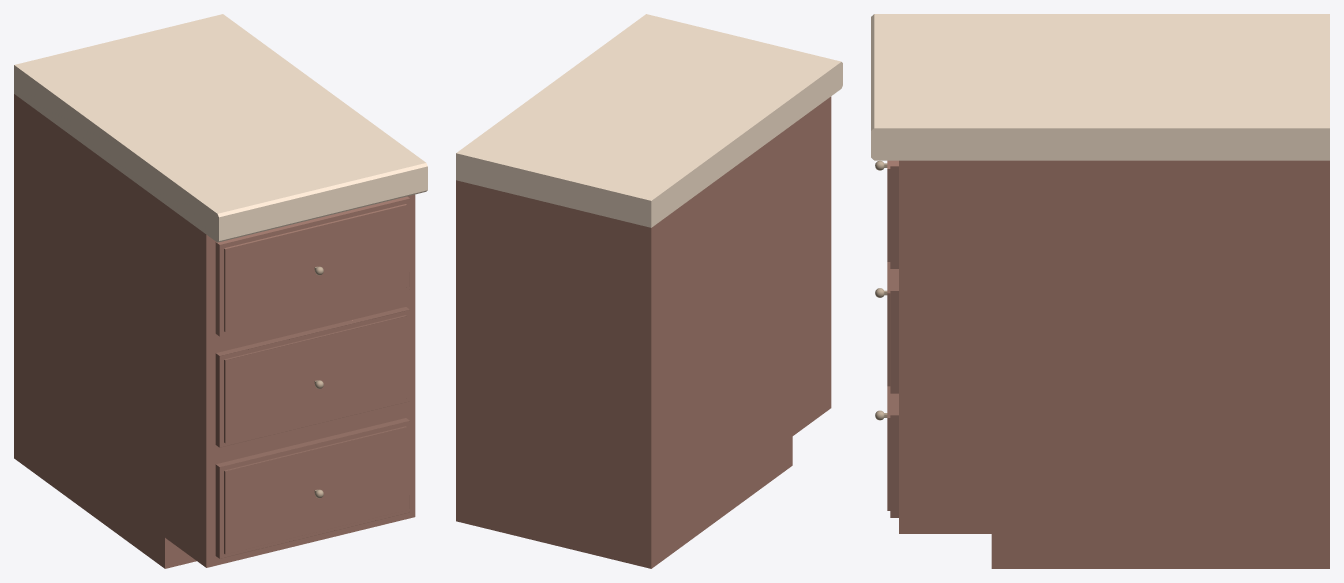
The model's file is HalfCabinetRight.glb.
3 renders of one model, left to right at view 1: azimuth 30°, elevation 25°; view 2: azimuth 150°, elevation 25°; view 3: azimuth 270°, elevation 25°, orthographic. The views are drawn at different scales.
Visible parts, largest first — view 1: Half Cabinet.R; view 2: Half Cabinet.R; view 3: Half Cabinet.R.
Part boxes in pixels (x1,y1,x2,y2): Half Cabinet.R: (14,14,427,568); Half Cabinet.R: (456,14,842,568); Half Cabinet.R: (871,14,1329,568).
Bounding box in the file's own units: 0.5 × 0.9 × 0.8489.
1 material, 1 textured.
